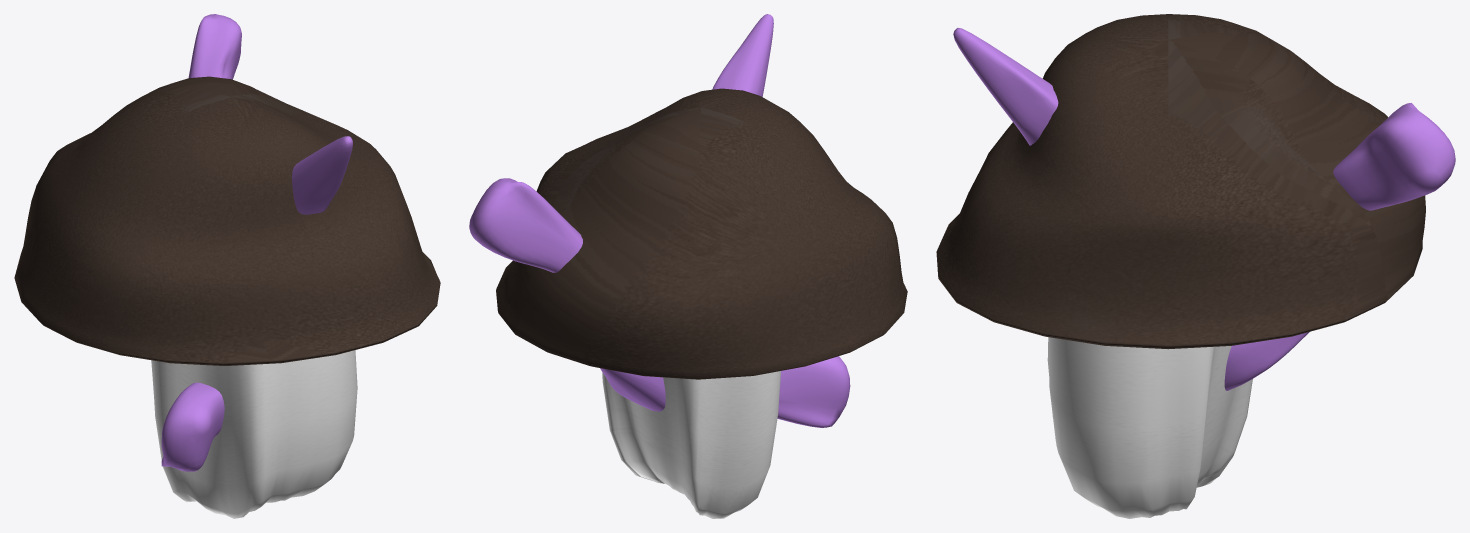
File: MushroomBlight_L2.fbx
3 views of the same model, side by side, from view 1: azimuth 30°, elevation 25°; view 2: azimuth 150°, elevation 25°; view 3: azimuth 270°, elevation 25° (orthographic). The views are drawn at different scales.
Visible parts, largest first — view 1: MushroomBlight_L2; view 2: MushroomBlight_L2; view 3: MushroomBlight_L2.
Part boxes in pixels (left/top/right/bottom): MushroomBlight_L2: left=14, top=14, right=440, bottom=518; MushroomBlight_L2: left=469, top=14, right=907, bottom=518; MushroomBlight_L2: left=936, top=14, right=1455, bottom=518.
Size of the model in its own units: 4.04 by 4.49 by 4.34.
Materials: 2 (1 with a texture image).
